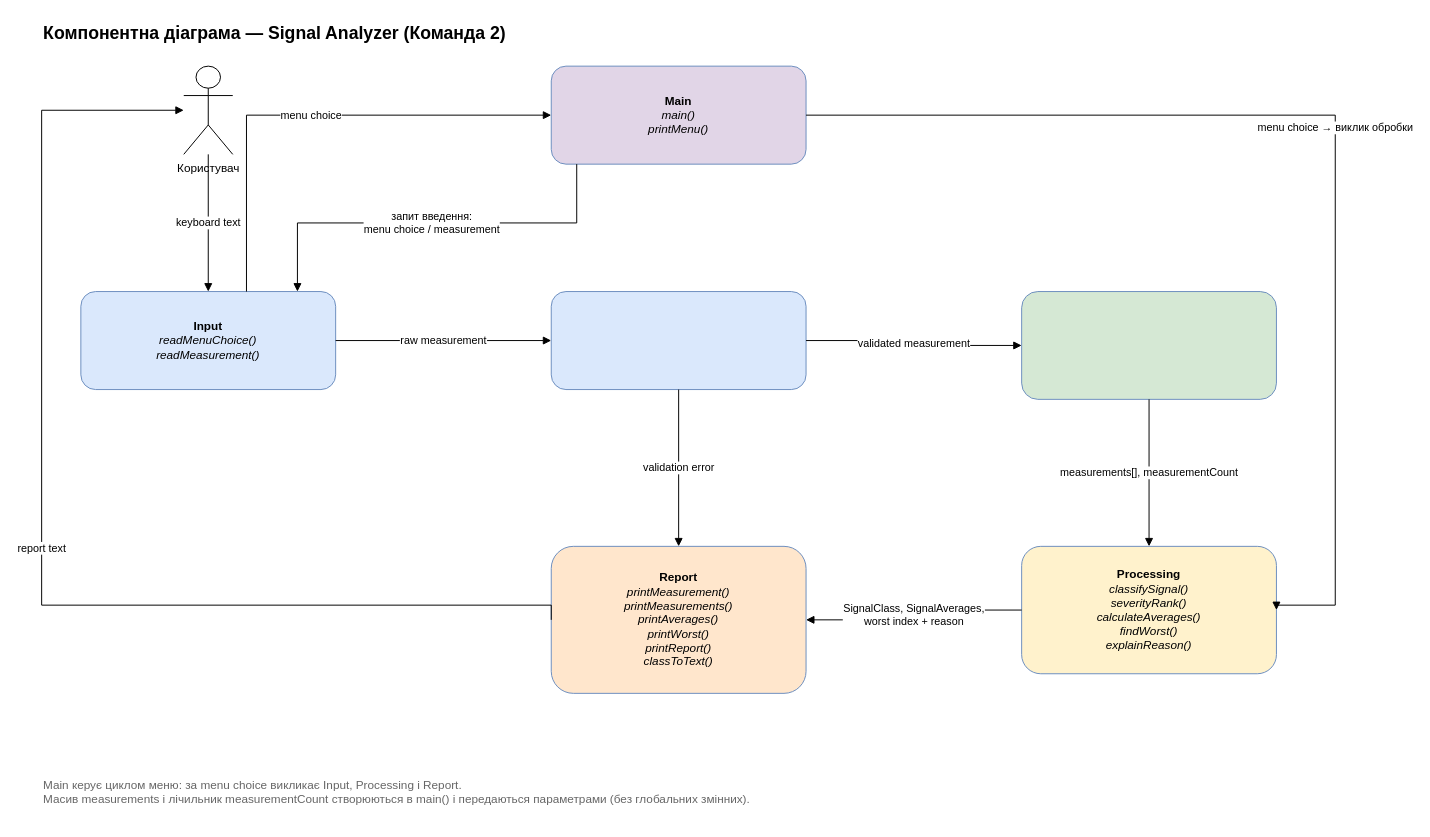
Some shapes in this 1430 by 837 pixel diagram are drawn without their labels. Each missing label, with the centre of its shape:
"State addMeasurement() measurements[MAX_MEASUREMENTS] measurementCount" goes at (x=1148, y=345).
"Validation validateMeasurement() rangeMessage()" goes at (x=678, y=340).
